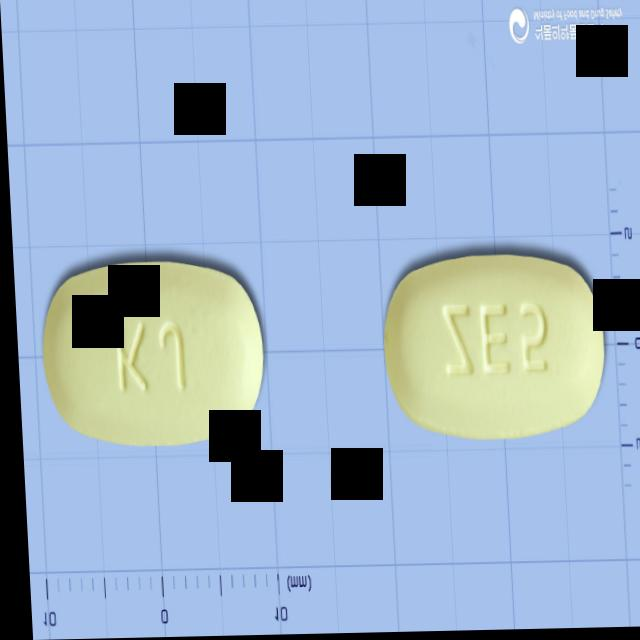Jecla: (36, 257, 264, 451), (376, 253, 606, 445)
